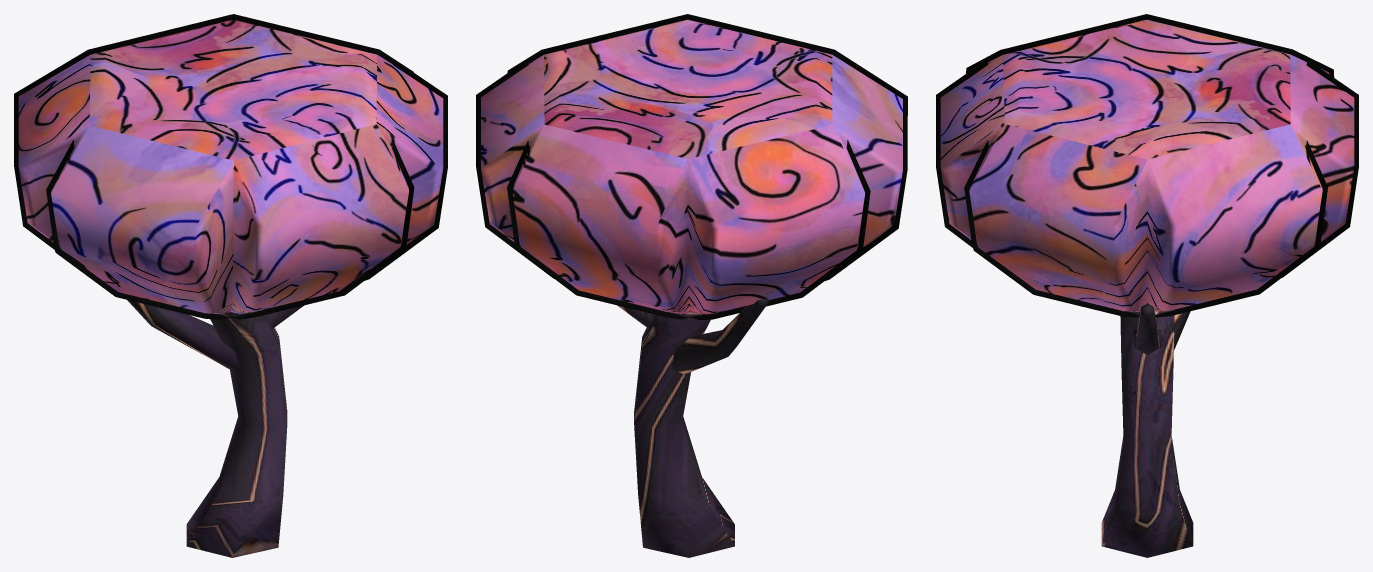
The model's file is entity22096.gltf.
The picture shows the model from 3 angles, left to right: view 1: azimuth 30°, elevation 25°; view 2: azimuth 150°, elevation 25°; view 3: azimuth 270°, elevation 25°; orthographic projection.
Parts seen in each view (by area): view 1: node_Tree_03; view 2: node_Tree_03; view 3: node_Tree_03.
Boxes of the visible parts, x1,y1,x2,y2 form: node_Tree_03: [14, 14, 447, 557]; node_Tree_03: [476, 14, 907, 557]; node_Tree_03: [936, 14, 1358, 557].
Size of what is drawn, in the model's own units: 2.52 by 2.76 by 2.31.
